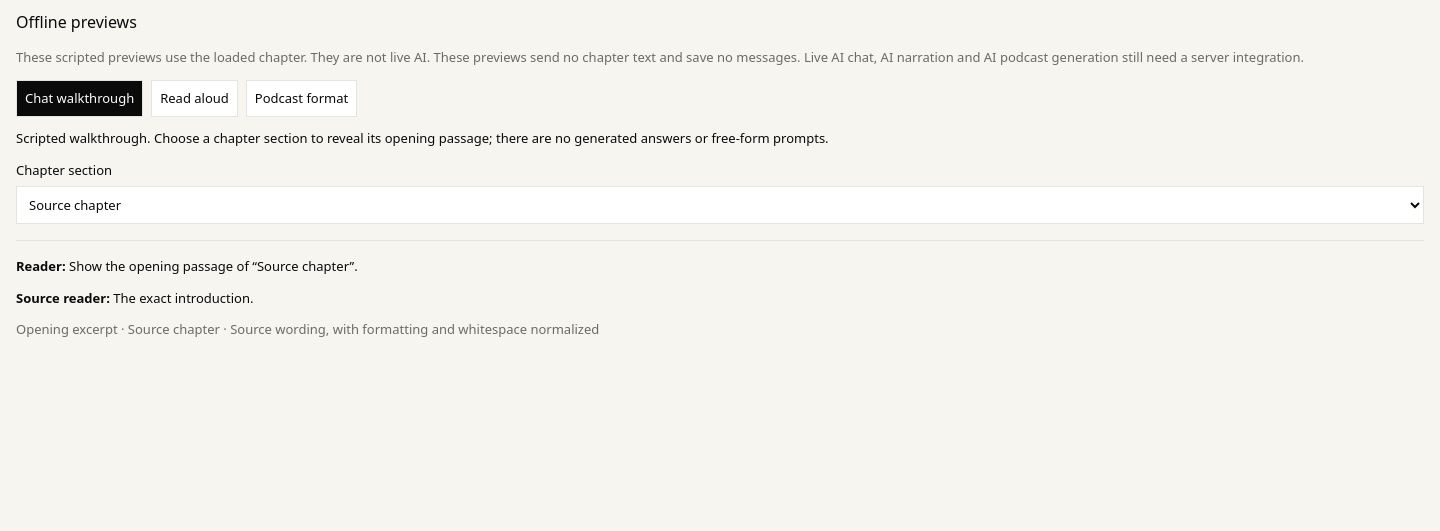
offline chapter previews › provides a plain source-grounded scripted transcript without requiring a voice
This screenshot has width=1440, height=531.
Click the button "Podcast format".
click(302, 98)  # box 246,80 -> 357,117
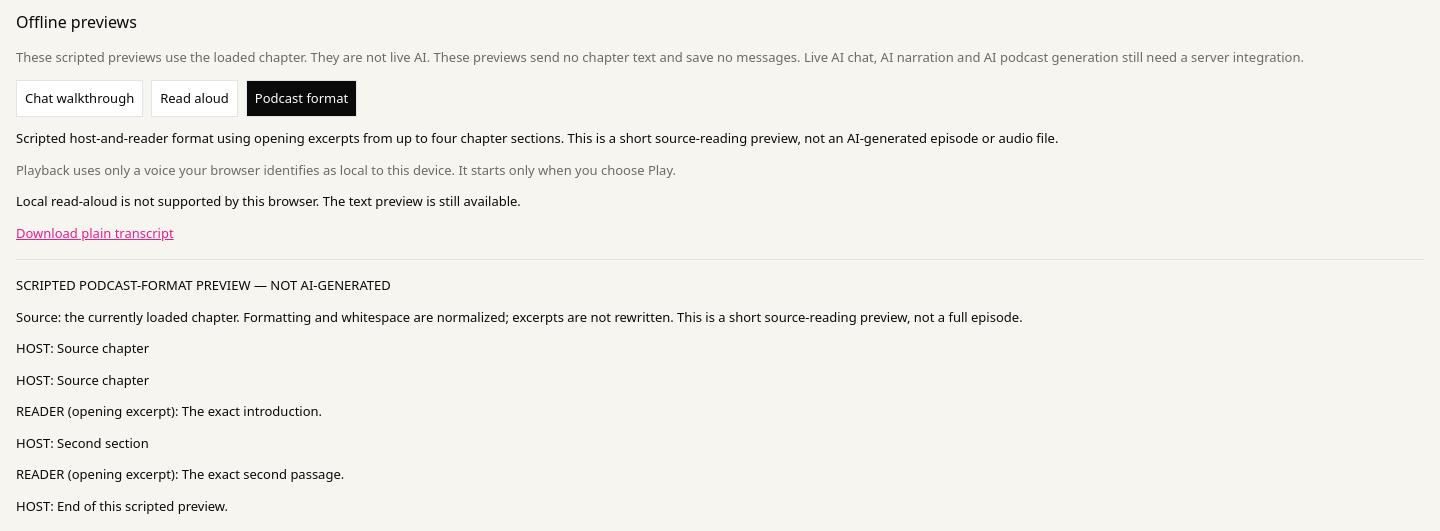
Expected: the text "not supported by this browser" is shown, 16,192 -> 521,210
